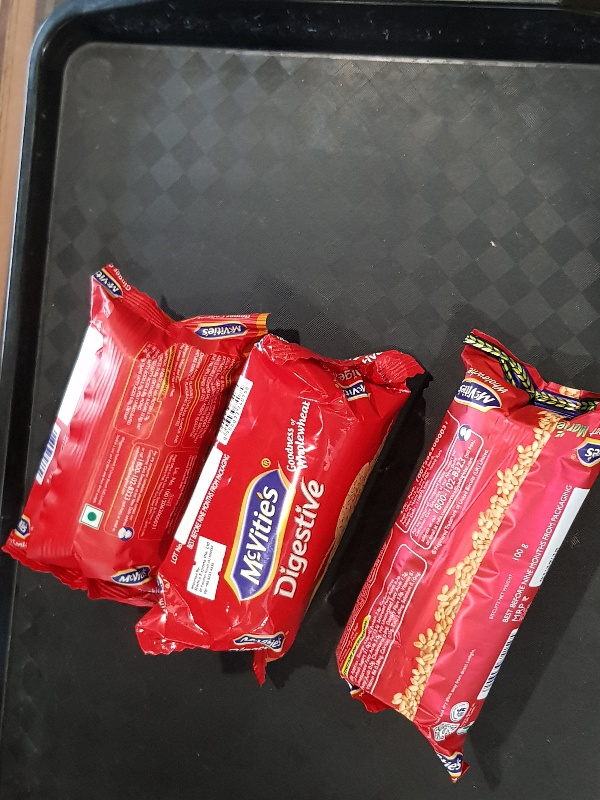McVitie's Ginger Cookies: (5, 263, 270, 603)
McVitie's Wholewheat Marie: (335, 330, 600, 783)
Mcvitie's Digestive: (134, 333, 410, 674)
